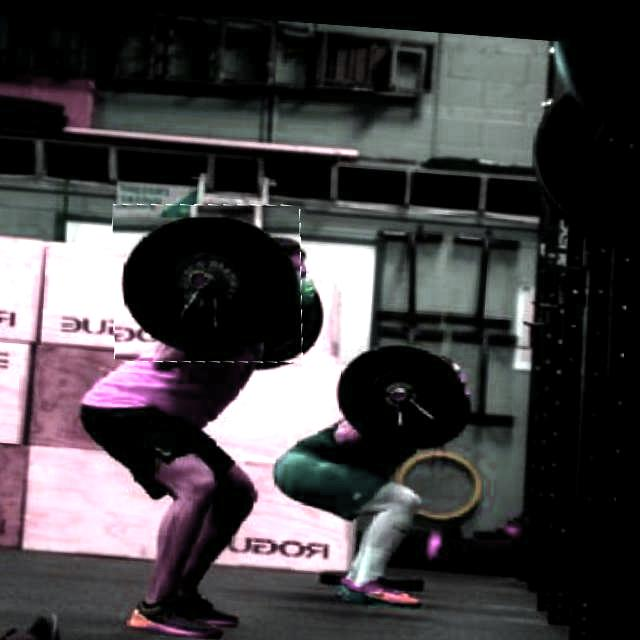barbell: (111, 193, 311, 367)
